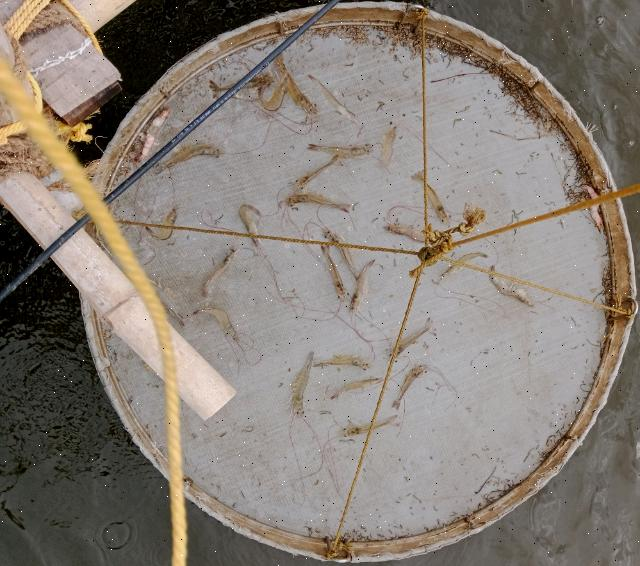shrimp: (273, 51, 319, 119), (308, 75, 357, 123), (410, 170, 449, 224), (321, 227, 359, 281), (388, 318, 436, 359), (320, 245, 352, 306), (159, 143, 224, 172), (135, 109, 170, 162), (491, 266, 534, 307), (193, 308, 240, 345), (434, 253, 488, 284), (202, 250, 236, 298), (294, 156, 338, 192), (209, 75, 275, 99), (393, 366, 426, 411), (256, 71, 289, 112), (292, 352, 313, 416), (350, 260, 375, 313), (340, 416, 399, 438), (285, 193, 349, 213), (157, 283, 185, 326), (308, 144, 372, 161), (331, 379, 383, 399), (581, 185, 604, 230), (240, 204, 261, 250), (146, 208, 176, 240), (313, 355, 368, 370), (384, 223, 425, 243), (381, 126, 397, 167)
